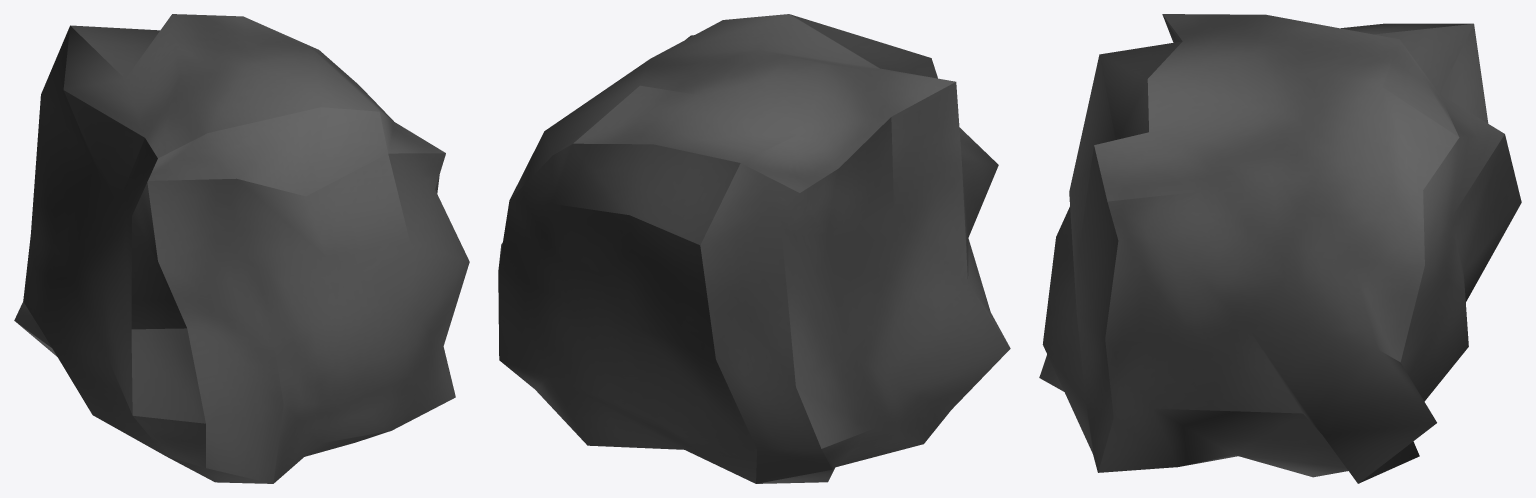
The model's file is GAMEJAMPUFFER - ForeGround Rock 6.fbx.
The picture shows the model from 3 angles, left to right: view 1: azimuth 30°, elevation 25°; view 2: azimuth 150°, elevation 25°; view 3: azimuth 270°, elevation 25°; orthographic projection. The views are drawn at different scales.
Parts seen in each view (by area): view 1: Cube.009; view 2: Cube.009; view 3: Cube.009.
Part boxes in pixels (x1,y1,x2,y2): Cube.009: [14, 14, 469, 483]; Cube.009: [498, 14, 1010, 483]; Cube.009: [1039, 14, 1521, 483].
Size of the model in its own units: 184 by 185 by 199.
Materials: 1 (1 with a texture image).
